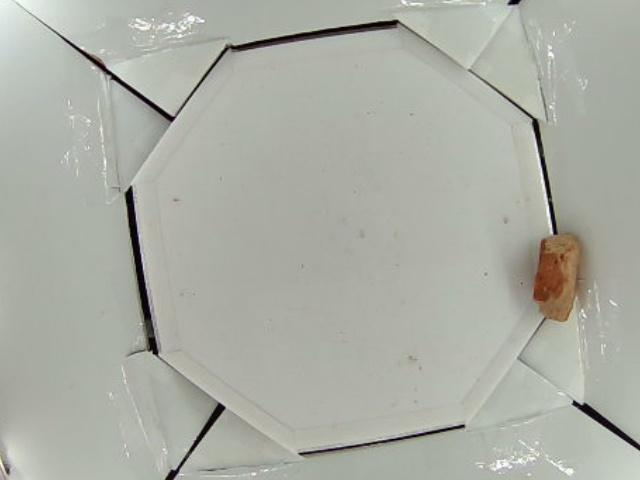Brisk: (532, 234, 583, 323)
